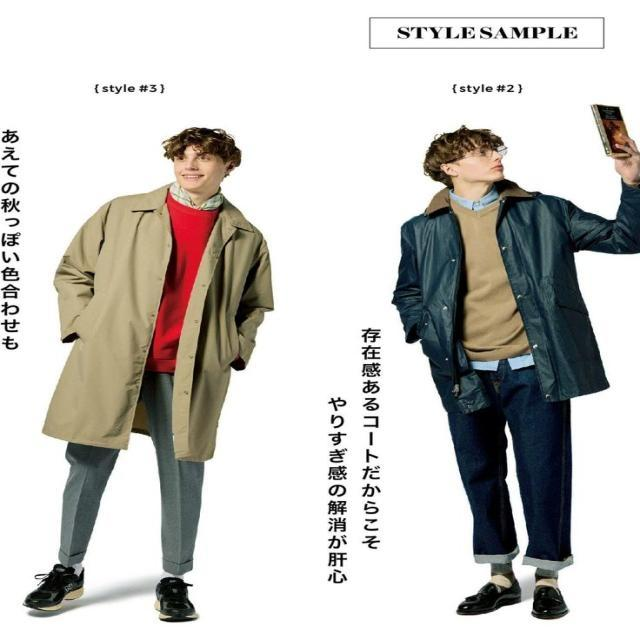person: (22, 126, 274, 622), (390, 125, 640, 620)
